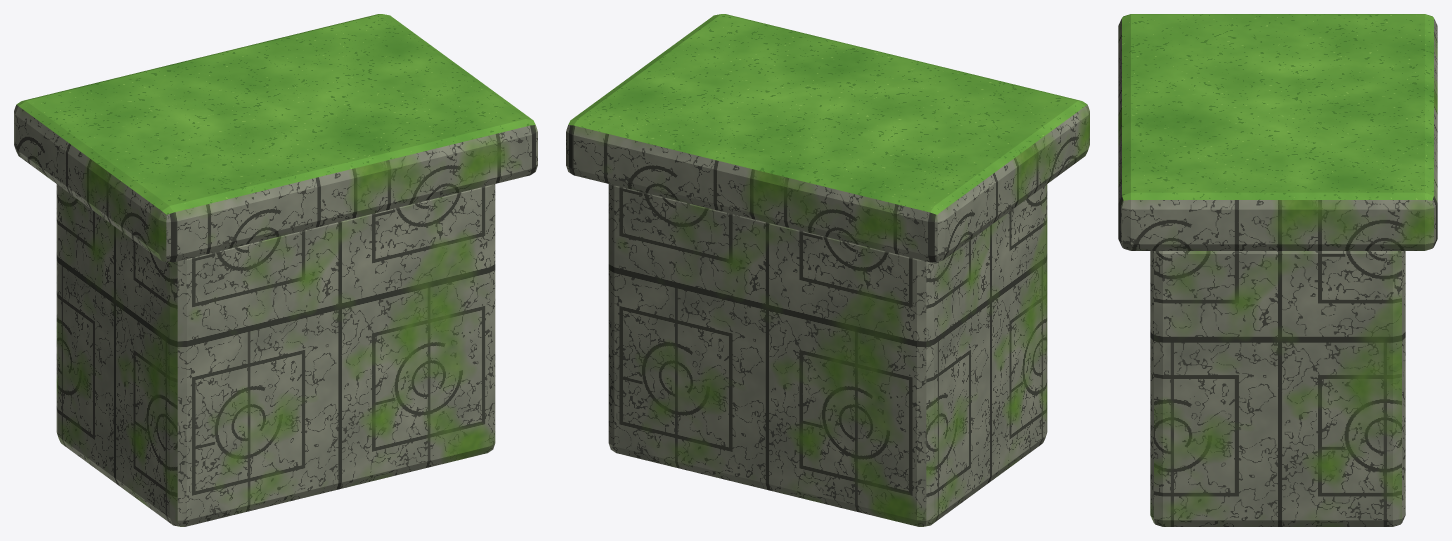
Rendered from Ruin_Altar.fbx.
The picture shows the model from 3 angles, left to right: view 1: azimuth 30°, elevation 25°; view 2: azimuth 150°, elevation 25°; view 3: azimuth 270°, elevation 25°; orthographic projection. The views are drawn at different scales.
Parts seen in each view (by area): view 1: Ruin_Altar.001; view 2: Ruin_Altar.001; view 3: Ruin_Altar.001.
Part boxes in pixels (left/top/right/bottom): Ruin_Altar.001: left=14, top=14, right=537, bottom=526; Ruin_Altar.001: left=566, top=14, right=1089, bottom=526; Ruin_Altar.001: left=1118, top=14, right=1437, bottom=526.
Size of the model in its own units: 1.05 by 0.9 by 0.75.
